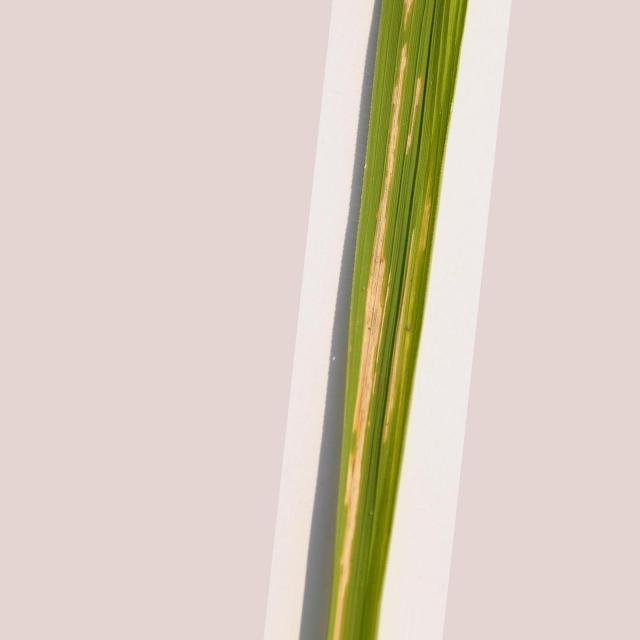Bacterial_Leaf_Blight: (329, 45, 406, 639), (384, 172, 440, 441), (406, 78, 422, 154), (404, 0, 413, 29)
